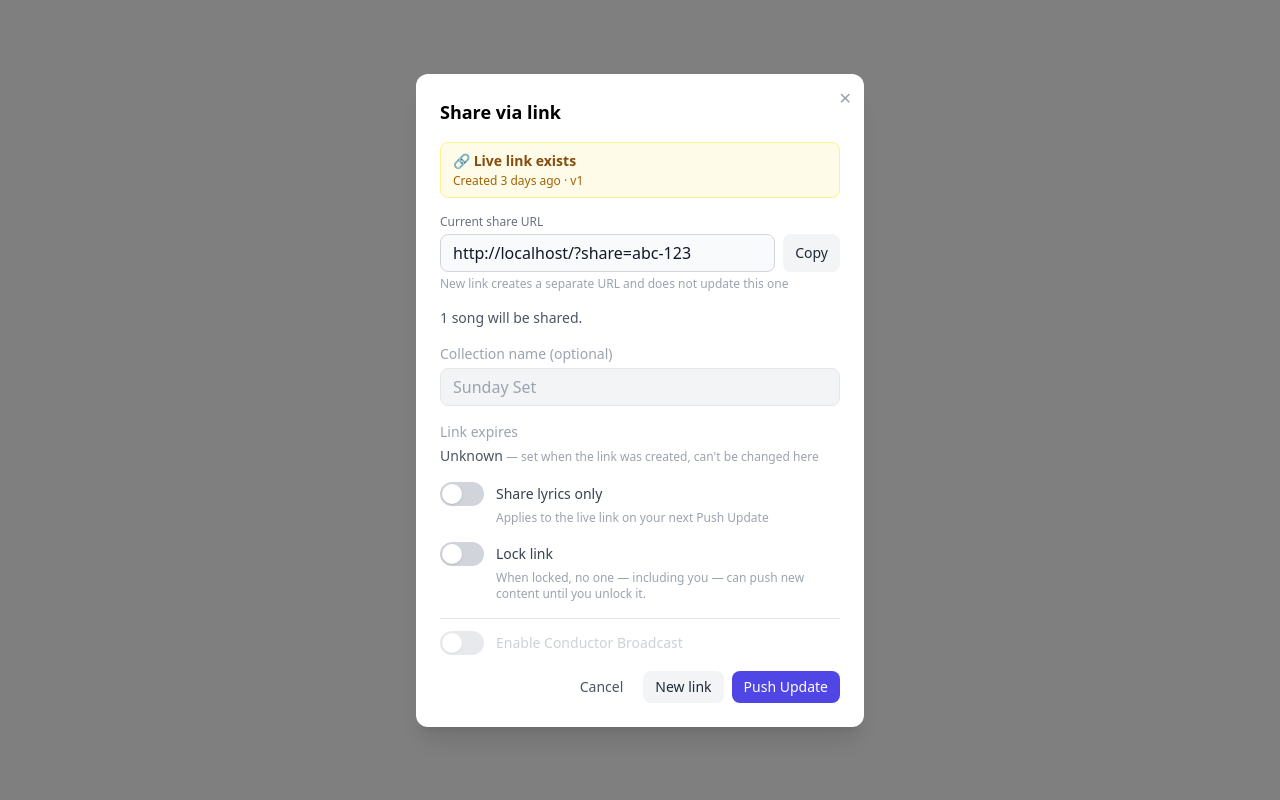
ShareModal — update mode › shows a locked-specific error when Push Update hits a 423 mid-flight
Click the button "Push Update" at [786, 686], box [732, 670, 840, 702]
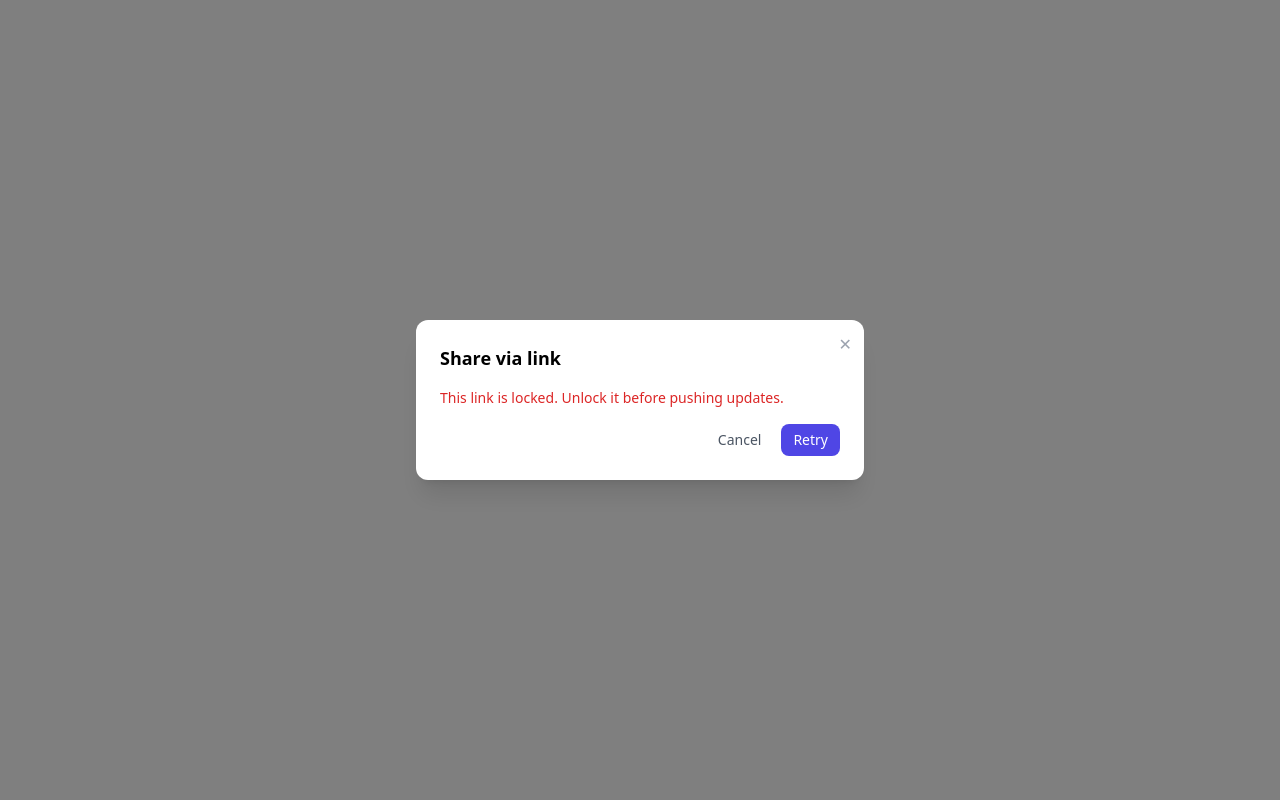
Check: the text "This link is locked. Unlock it before pushing updates." is shown, box [440, 388, 840, 408]
